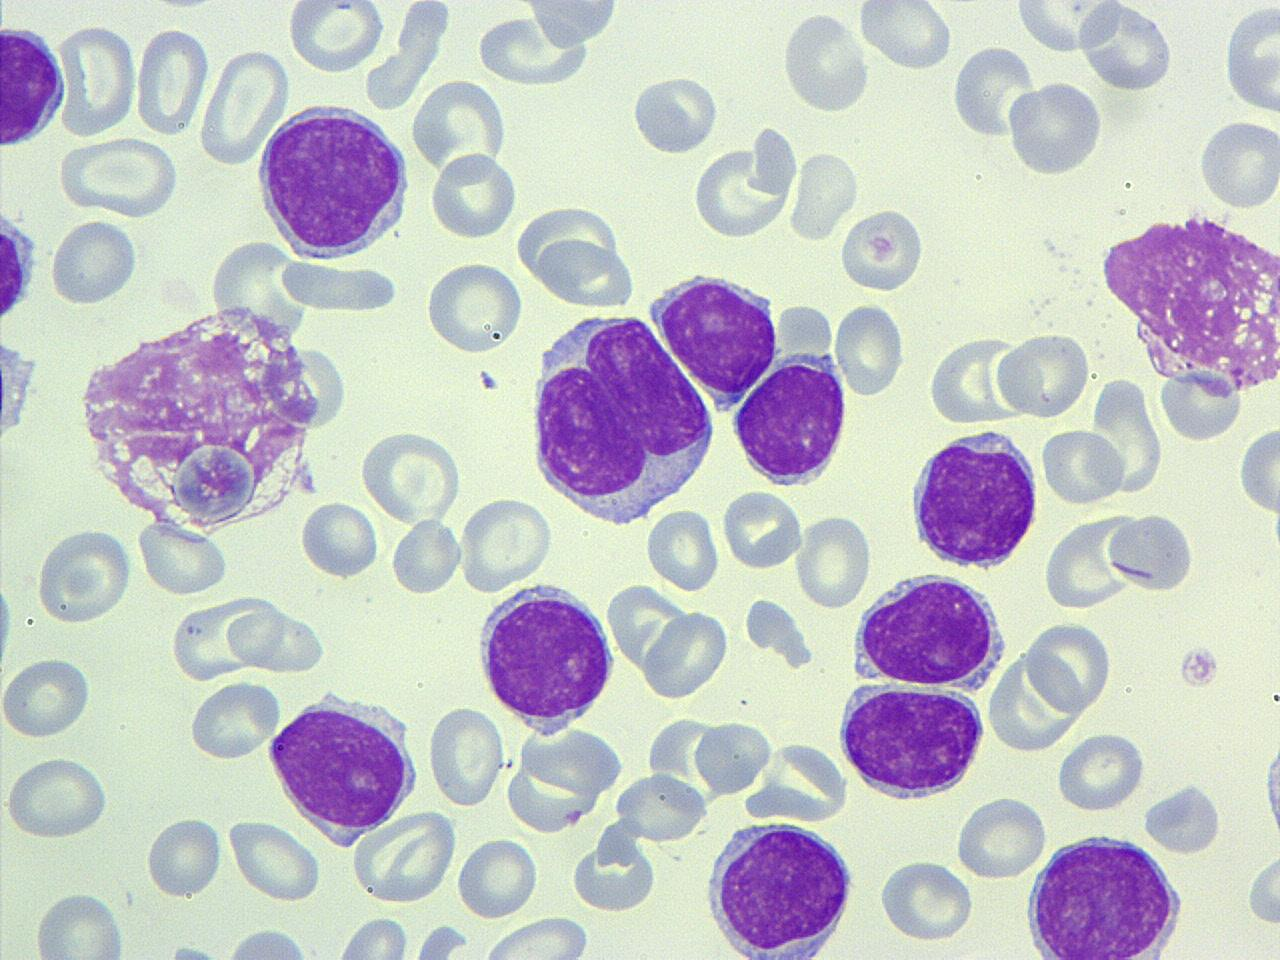Platelets: (1142, 780, 1224, 858), (0, 561, 17, 679), (165, 941, 221, 960), (476, 368, 499, 392)
RBC: (691, 128, 797, 242), (196, 47, 292, 167), (358, 424, 465, 526), (56, 135, 183, 218), (350, 808, 457, 906), (424, 256, 527, 356), (1006, 78, 1107, 179), (33, 526, 134, 626), (1087, 372, 1167, 498), (457, 494, 556, 594), (409, 76, 509, 174), (926, 331, 1030, 425), (55, 20, 139, 136), (2, 754, 113, 840), (950, 41, 1040, 144), (782, 9, 870, 114), (474, 11, 591, 89), (1076, 2, 1176, 93), (568, 820, 660, 916), (46, 216, 143, 306), (134, 23, 210, 137), (998, 328, 1092, 420), (426, 151, 520, 242), (640, 606, 729, 702), (878, 856, 976, 943), (1026, 615, 1112, 714), (952, 793, 1049, 880), (628, 70, 723, 157), (224, 818, 322, 902), (425, 703, 504, 807), (1103, 510, 1199, 594), (133, 516, 231, 598), (795, 510, 875, 610), (836, 204, 926, 292), (188, 678, 281, 762), (832, 298, 908, 400), (0, 654, 92, 738), (534, 235, 637, 310), (1197, 116, 1277, 212), (1054, 730, 1146, 812), (285, 1, 385, 75), (788, 147, 862, 244), (455, 834, 540, 918), (1039, 425, 1127, 506), (722, 486, 802, 574), (644, 503, 721, 594), (30, 888, 127, 960), (225, 609, 330, 675), (612, 772, 708, 844), (855, 2, 954, 70), (300, 498, 380, 580), (1222, 3, 1280, 116), (145, 814, 221, 900), (692, 717, 773, 796), (1156, 368, 1242, 442), (389, 515, 463, 596), (1013, 0, 1119, 55), (478, 914, 592, 958), (1238, 422, 1280, 516), (212, 924, 324, 958), (333, 913, 410, 959), (1246, 848, 1280, 930)
WBC: (72, 294, 352, 533), (1097, 199, 1280, 439), (522, 305, 719, 527), (254, 99, 414, 264), (264, 688, 421, 850), (472, 577, 620, 735), (700, 813, 860, 959), (1021, 829, 1189, 960), (908, 423, 1042, 574), (849, 567, 1008, 691), (834, 684, 992, 804), (729, 355, 852, 490), (654, 273, 782, 394), (471, 4, 612, 86), (950, 39, 1041, 143), (569, 820, 662, 917), (1, 22, 69, 149), (1103, 509, 1199, 594), (1140, 778, 1226, 858), (518, 1, 626, 51), (0, 192, 38, 333), (205, 924, 324, 959), (1259, 718, 1279, 866)
